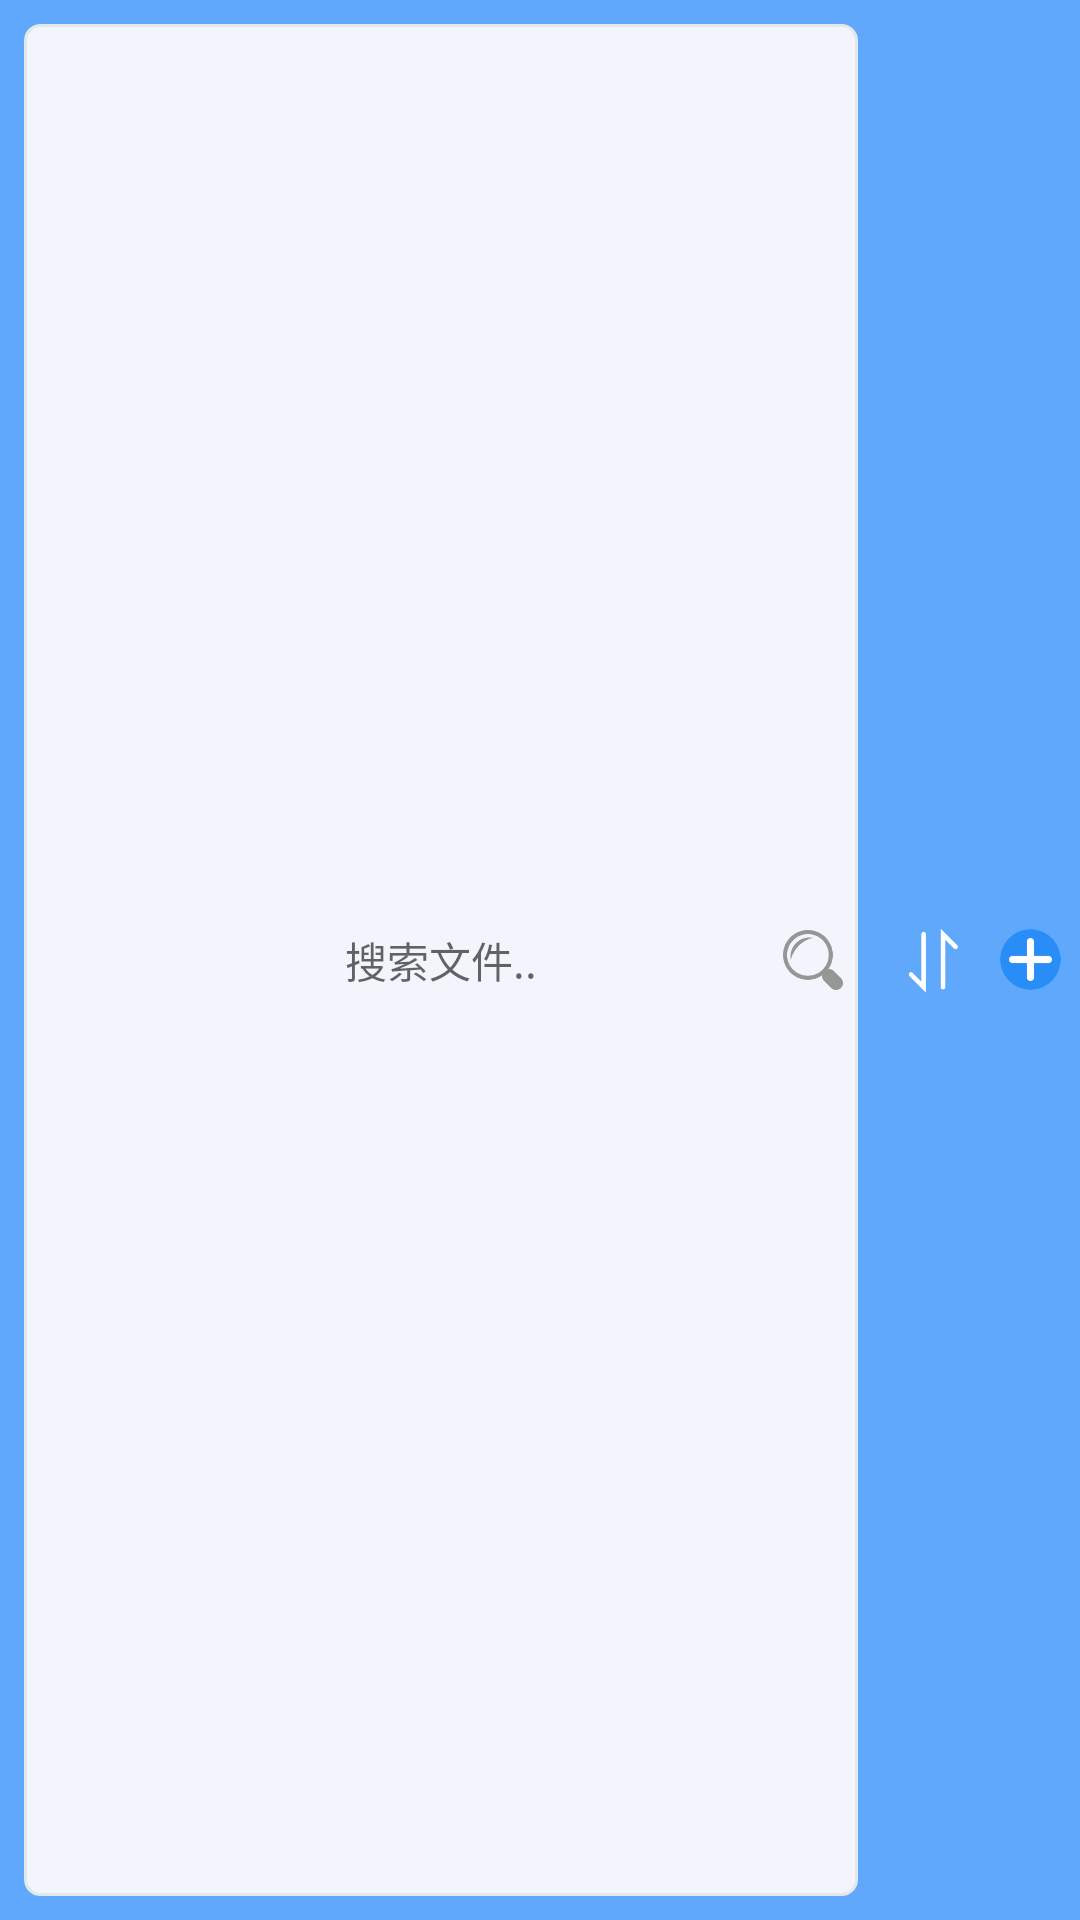

Icon bounding boxes for this 1080w x 1920h phone screenshot, format (x1, y1, x2, y2):
add: (1000, 929, 1061, 990)
search: (783, 930, 843, 990)
transmission list: (908, 929, 958, 993)
